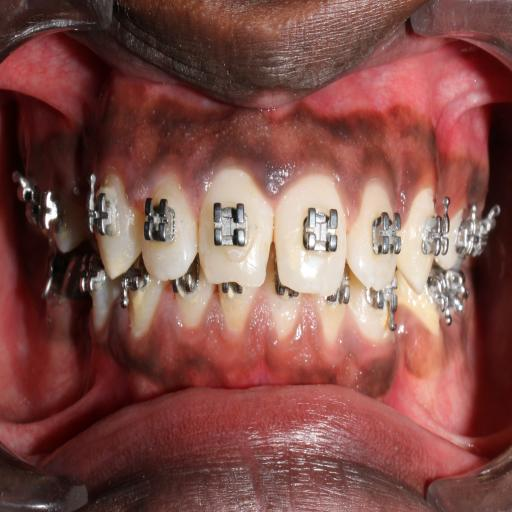correct_brace: (206, 197, 254, 258), (372, 196, 406, 270), (299, 203, 340, 264), (140, 192, 176, 245), (421, 199, 450, 261), (89, 187, 119, 242)
incorrect_brace: (138, 160, 198, 288), (352, 174, 402, 286)
